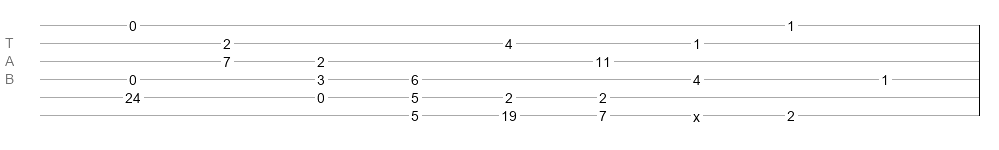0: (129, 18, 137, 28), (129, 72, 137, 82), (317, 90, 325, 100)
1: (693, 36, 701, 46), (787, 18, 795, 28), (881, 72, 889, 82)
11: (595, 54, 611, 64)
19: (501, 108, 517, 118)
2: (223, 36, 231, 46), (317, 54, 325, 64), (505, 90, 513, 100), (599, 90, 607, 100), (787, 108, 795, 118)
24: (125, 90, 141, 100)
3: (317, 72, 325, 82)
4: (505, 36, 513, 46), (693, 72, 701, 82)
5: (411, 90, 419, 100), (411, 108, 419, 118)
6: (411, 72, 419, 82)
7: (223, 54, 231, 64), (599, 108, 607, 118)
x: (693, 109, 700, 117)
